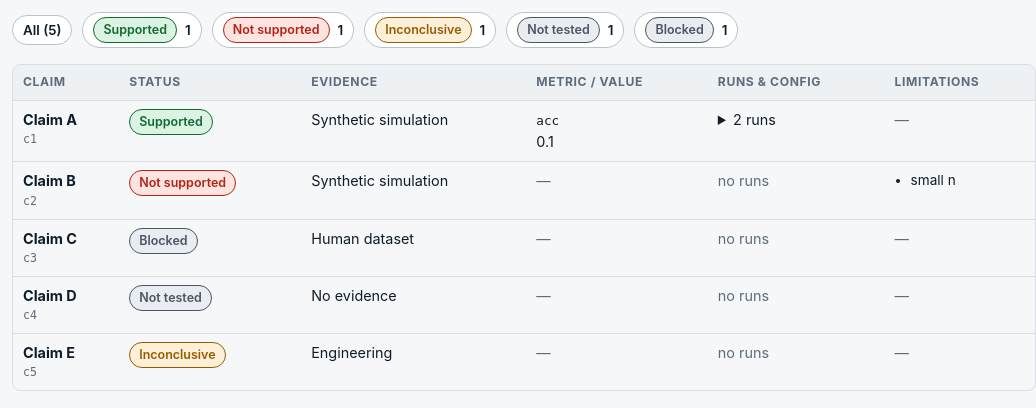
Test: ClaimsTable › filters by status
Click the button "Not supported 1": click(283, 30) [212,12,354,48]
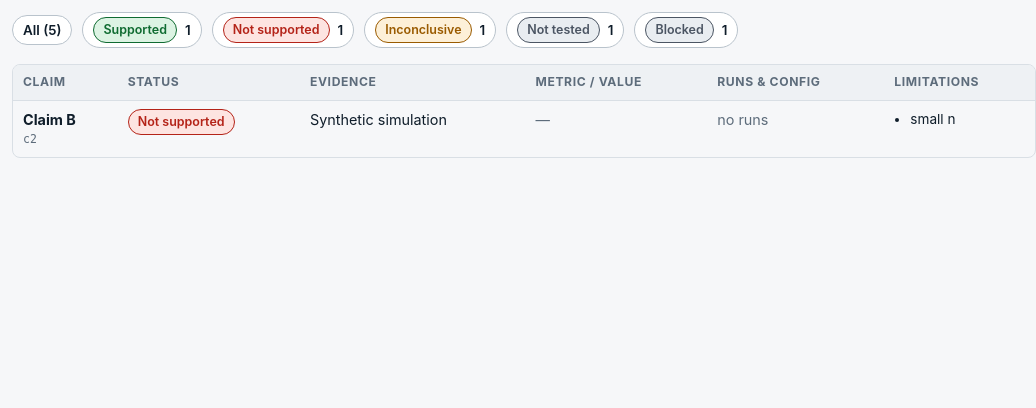
expect the text "Claim B" is shown: met, box [23,111,76,128]
expect the number of rows with test id "claim-row" is 1: met, box [13,101,1035,157]
